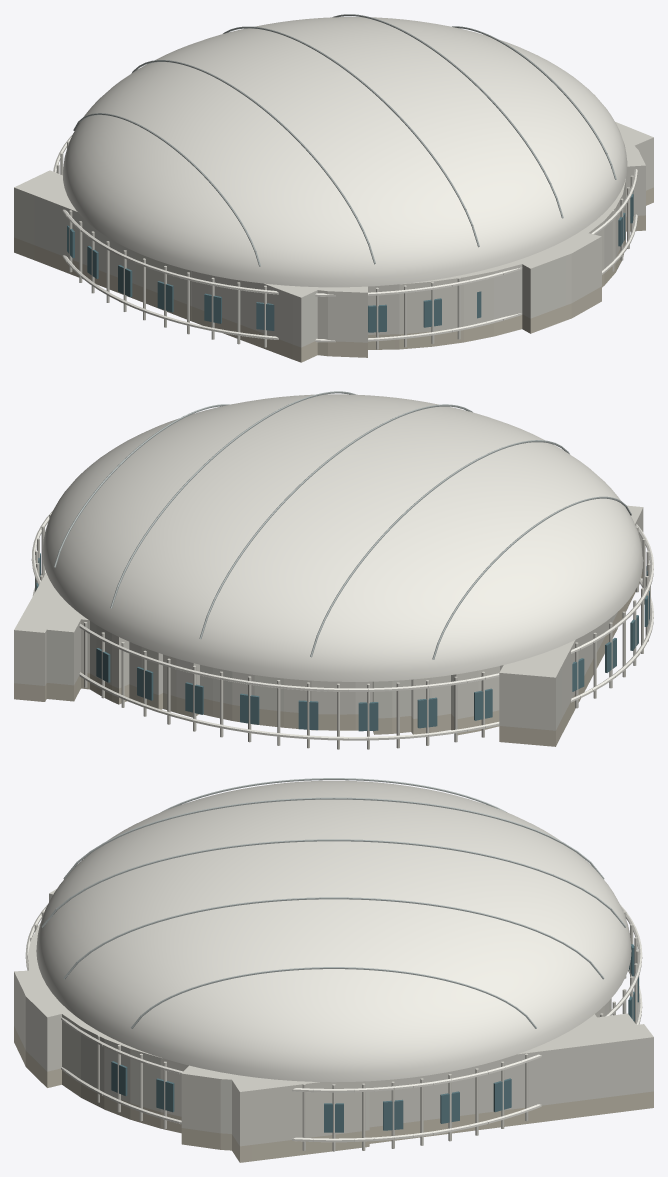
The model's file is rogers_centre.glb.
3 renders of one model, top to bottom at view 1: azimuth 30°, elevation 25°; view 2: azimuth 150°, elevation 25°; view 3: azimuth 270°, elevation 25°, orthographic. The views are drawn at different scales.
Parts seen in each view (by area): view 1: Retractable roof panels, Concourse facade, Stadium base, Roof panel rail, Glazed concourse bay; view 2: Retractable roof panels, Concourse facade, Stadium base, Glazed concourse bay, Roof panel rail; view 3: Retractable roof panels, Concourse facade, Stadium base, Roof panel rail, Glazed concourse bay.
Part boxes in pixels (x1,y1,x2,y2): Retractable roof panels: [53, 17, 637, 342]; Concourse facade: [14, 122, 653, 349]; Stadium base: [14, 187, 653, 362]; Roof panel rail: [73, 14, 616, 266]; Glazed concourse bay: [67, 191, 633, 332]; Retractable roof panels: [31, 394, 653, 740]; Concourse facade: [14, 505, 650, 749]; Stadium base: [14, 570, 642, 746]; Glazed concourse bay: [35, 553, 649, 731]; Roof panel rail: [54, 391, 631, 659]; Retractable roof panels: [25, 780, 642, 1142]; Concourse facade: [14, 864, 653, 1151]; Stadium base: [14, 1026, 653, 1162]; Roof panel rail: [41, 778, 626, 1028]; Glazed concourse bay: [111, 944, 638, 1132].
Bounding box in the file's own units: 256 × 77.27 × 246.
